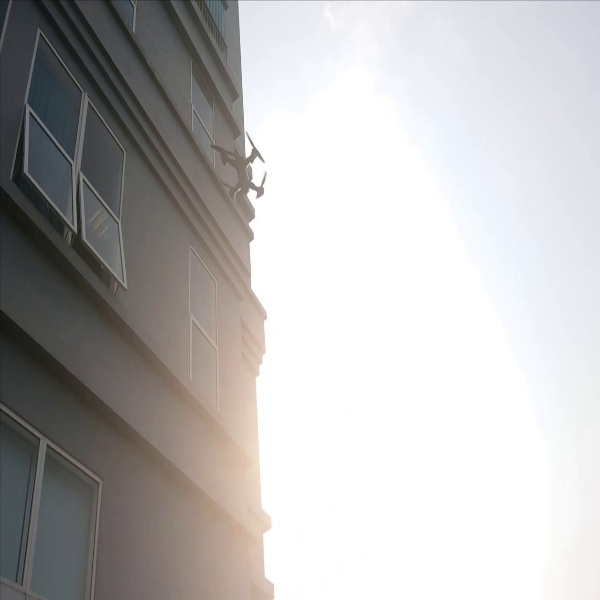drone: (207, 132, 274, 209)
